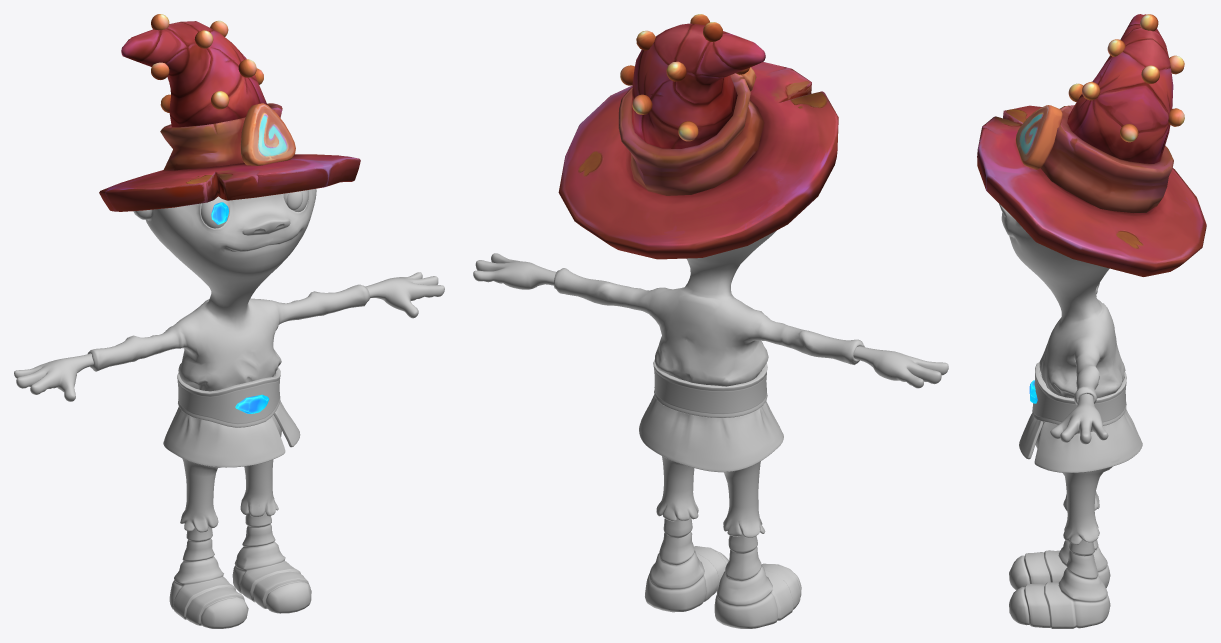
The model's file is char2_v3.fbx.
3 views of the same model, side by side, from view 1: azimuth 30°, elevation 25°; view 2: azimuth 150°, elevation 25°; view 3: azimuth 270°, elevation 25° (orthographic). The views are drawn at different scales.
Parts seen in each view (by area): view 1: Ch19.001, bottom_copy, bottom_copy.006, bottom_copy.007, bottom_copy.018, bottom_copy.023; view 2: Ch19.001, bottom_copy, bottom_copy.006, bottom_copy.007, bottom_copy.023; view 3: Ch19.001, bottom_copy, bottom_copy.006, bottom_copy.007, bottom_copy.023, bottom_copy.018.
Boxes of the visible parts, bbox=[...] form: Ch19.001: bbox=[14, 189, 444, 628]; bottom_copy: bbox=[99, 154, 360, 211]; bottom_copy.006: bbox=[121, 21, 267, 127]; bottom_copy.007: bbox=[160, 103, 282, 170]; bottom_copy.018: bbox=[240, 103, 295, 165]; bottom_copy.023: bbox=[151, 14, 263, 112]; Ch19.001: bbox=[473, 230, 948, 628]; bottom_copy: bbox=[558, 62, 838, 259]; bottom_copy.006: bbox=[632, 23, 765, 148]; bottom_copy.007: bbox=[618, 73, 764, 195]; bottom_copy.023: bbox=[620, 14, 749, 141]; Ch19.001: bbox=[998, 203, 1142, 628]; bottom_copy: bbox=[977, 105, 1206, 276]; bottom_copy.006: bbox=[1067, 14, 1173, 163]; bottom_copy.007: bbox=[1041, 105, 1173, 212]; bottom_copy.023: bbox=[1068, 14, 1184, 142]; bottom_copy.018: bbox=[1015, 105, 1062, 169].
Bounding box in the file's own units: 148 × 190 × 69.62.
